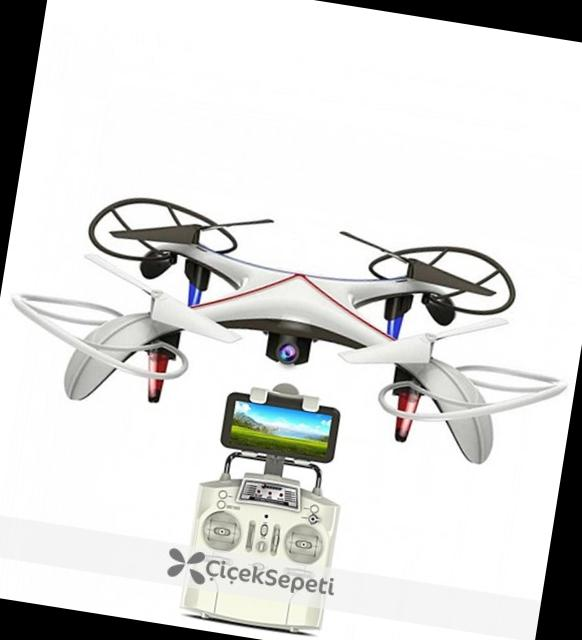drone: (0, 177, 582, 476)
